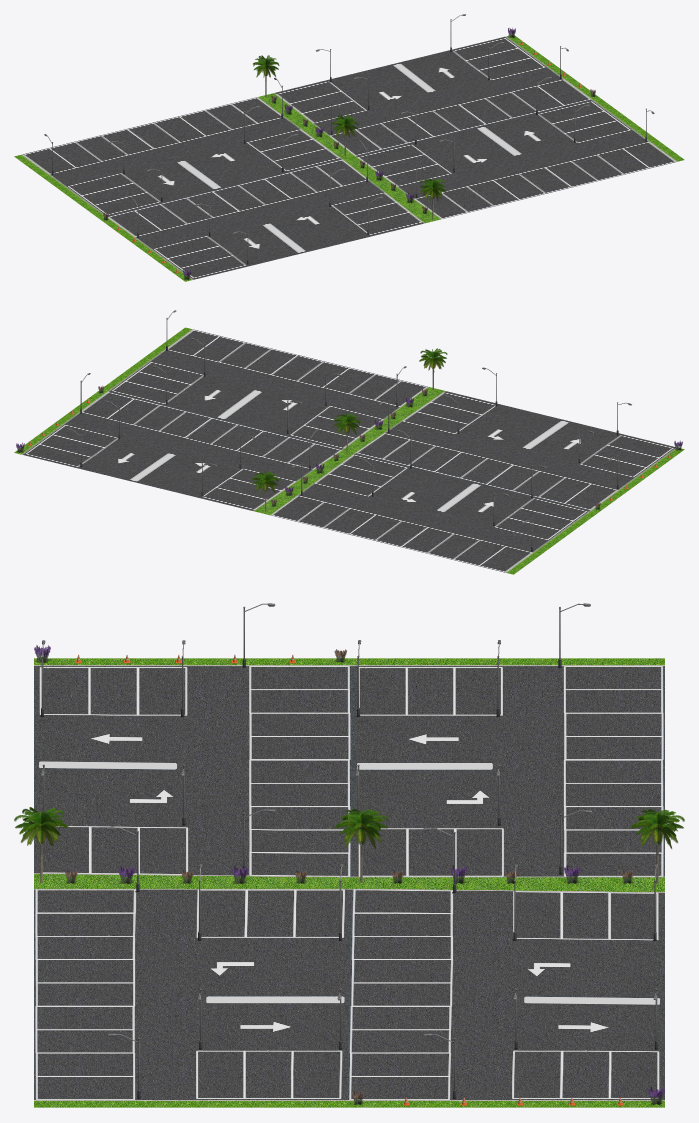
3 views of the same model, one above another, from view 1: azimuth 30°, elevation 25°; view 2: azimuth 150°, elevation 25°; view 3: azimuth 270°, elevation 25° (orthographic). The views are drawn at different scales.
Parts seen in each view (by area): view 1: Parking Area_Parking_Area_Tex_0, Vegetation_Vegetation_Atlas_0, Parking Area_Props_Atlas_0; view 2: Parking Area_Parking_Area_Tex_0, Vegetation_Vegetation_Atlas_0, Parking Area_Props_Atlas_0; view 3: Parking Area_Parking_Area_Tex_0, Vegetation_Vegetation_Atlas_0, Parking Area_Props_Atlas_0.
Part boxes in pixels (bbox=[...]): Parking Area_Parking_Area_Tex_0: bbox=[14, 35, 684, 281]; Vegetation_Vegetation_Atlas_0: bbox=[103, 28, 595, 279]; Parking Area_Props_Atlas_0: bbox=[44, 14, 654, 272]; Parking Area_Parking_Area_Tex_0: bbox=[14, 327, 684, 574]; Vegetation_Vegetation_Atlas_0: bbox=[16, 348, 682, 512]; Parking Area_Props_Atlas_0: bbox=[28, 310, 670, 551]; Parking Area_Parking_Area_Tex_0: bbox=[34, 658, 664, 1107]; Vegetation_Vegetation_Atlas_0: bbox=[14, 645, 684, 1105]; Parking Area_Props_Atlas_0: bbox=[40, 603, 659, 1105].
Size of the model in its own units: 0.9788 by 0.0738 by 0.6174.
3 materials, 3 textured.
